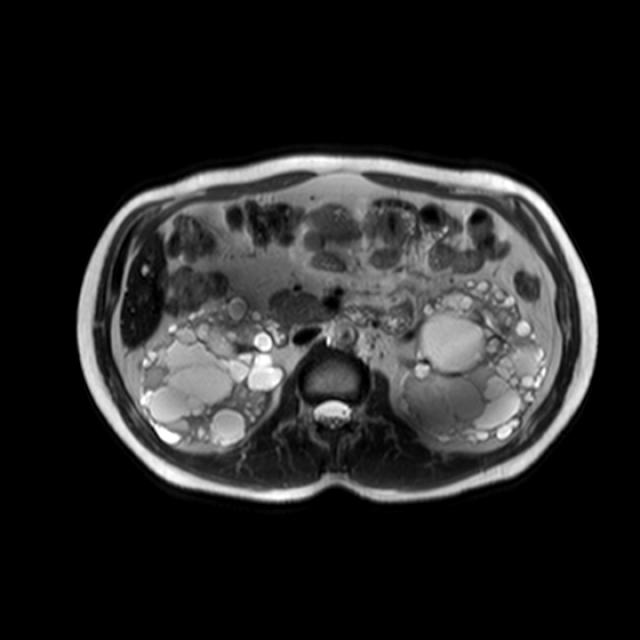sag: (136, 297, 282, 450)
sol: (397, 283, 550, 444)
